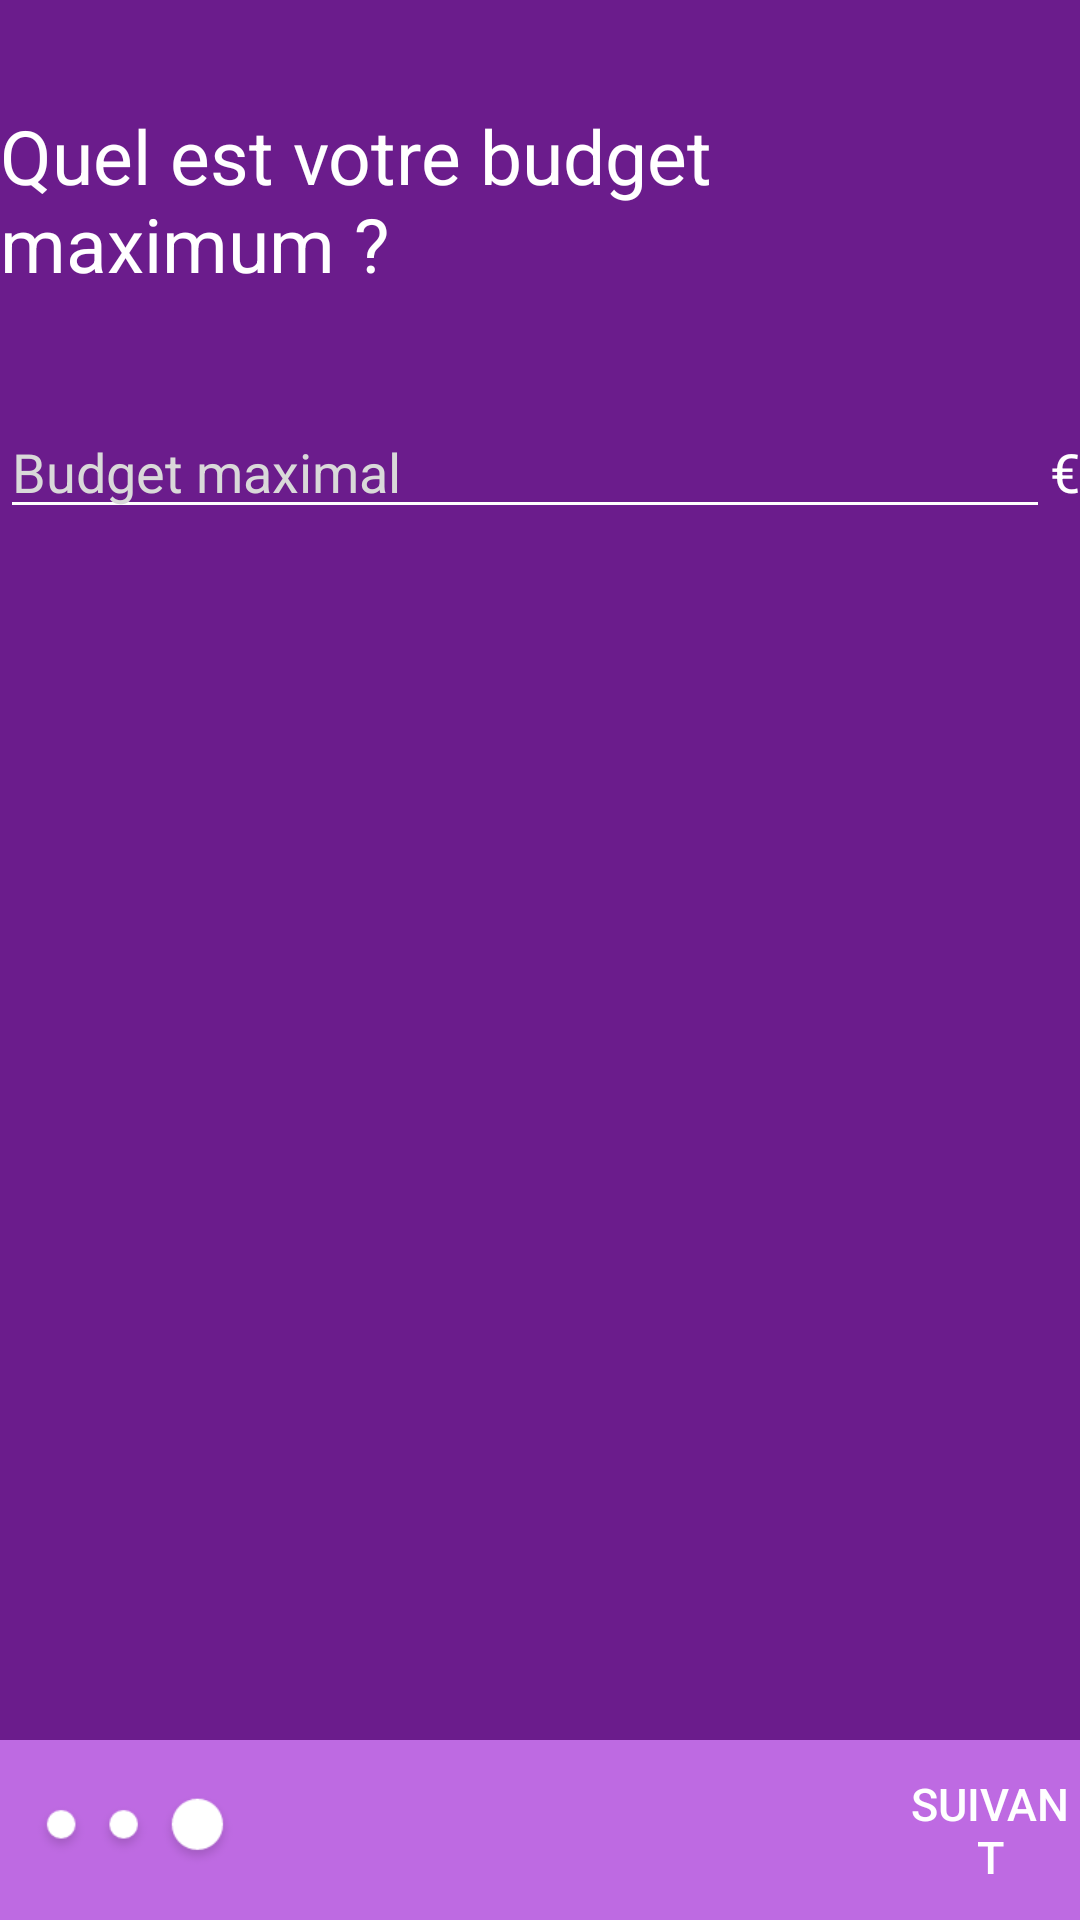

Point at icon controls on the screen. Image size 1080 x 1920, points as (x=x, y=y).
dot: (x=135, y=1825)
